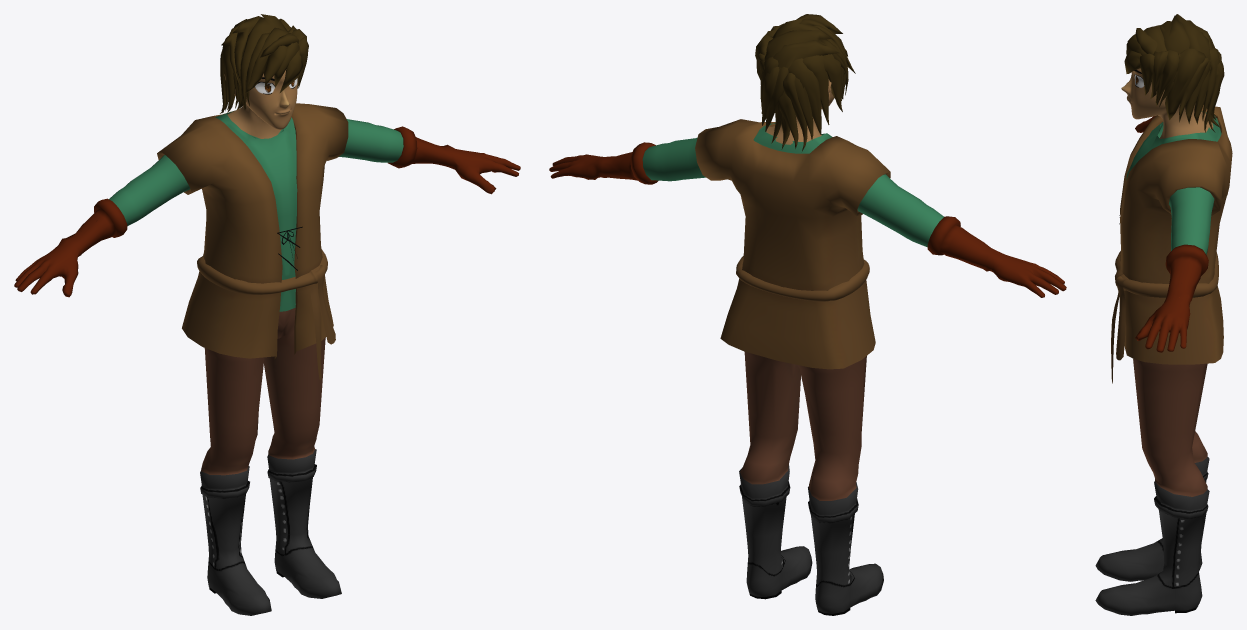
Rendered from hero_V2.fbx.
3 renders of one model, left to right at view 1: azimuth 30°, elevation 25°; view 2: azimuth 150°, elevation 25°; view 3: azimuth 270°, elevation 25°, orthographic. The views are drawn at different scales.
Parts seen in each view (by area): view 1: clothes.001, Figure.003, clothes, Figure.002, hair, clothes.002, Figure.001; view 2: clothes.001, Figure.003, hair, Figure.002, clothes, clothes.002; view 3: Figure.003, clothes.001, hair, Figure.002, clothes, Figure.001, clothes.002.
Part boxes in pixels (x1,y1,x2,y2): clothes.001: (157,103,348,359); Figure.003: (200,308,341,615); clothes: (109,111,403,311); Figure.002: (14,126,520,297); hair: (220,14,308,113); clothes.002: (197,249,335,380); Figure.001: (224,69,297,138); clothes.001: (695,119,890,369); Figure.003: (739,351,883,615); hair: (755,14,855,151); Figure.002: (549,142,1066,297); clothes: (642,123,943,247); clothes.002: (736,256,869,301); Figure.003: (1095,359,1209,615); clothes.001: (1119,105,1232,364); hair: (1124,14,1224,132); Figure.002: (1135,116,1208,352); clothes: (1126,111,1221,254); Figure.001: (1121,68,1213,138); clothes.002: (1111,251,1218,383).
Size of the model in its own units: 129 by 140 by 30.19.
7 materials, 7 textured.
